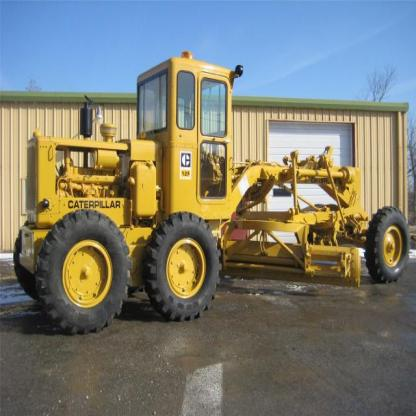bull_dozer/loader/grader: (23, 53, 411, 338)
